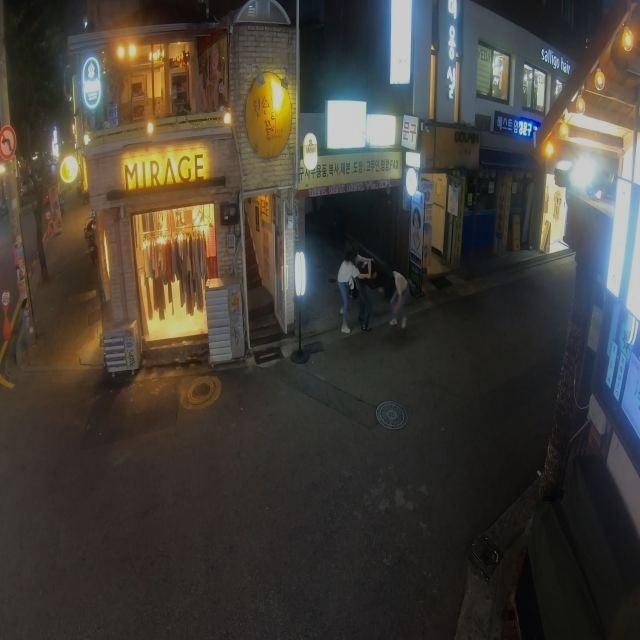fight: (332, 247, 409, 335)
